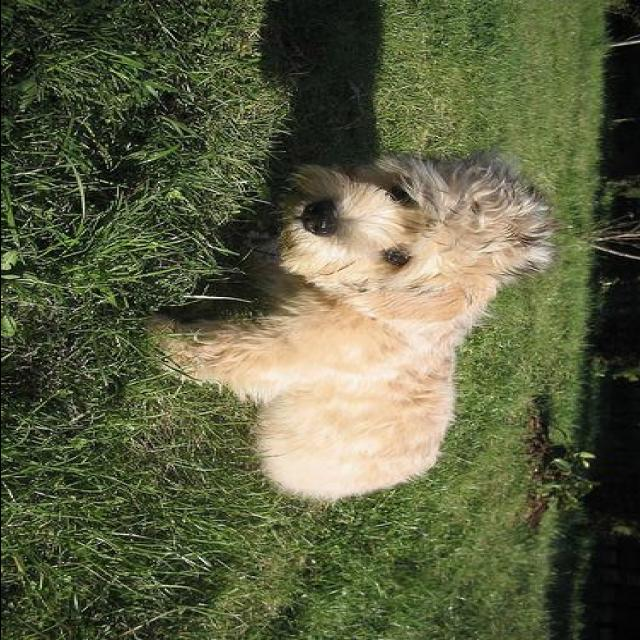dandie_dinmont: (137, 148, 552, 498)
